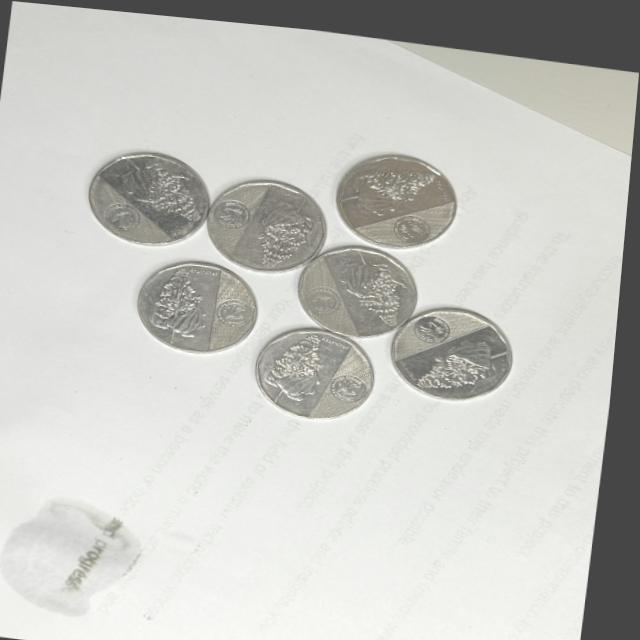10_New_Back: (108, 154, 208, 218), (264, 316, 348, 392), (418, 322, 514, 384), (250, 178, 322, 259), (366, 157, 446, 218), (348, 246, 412, 313), (153, 265, 214, 334)
